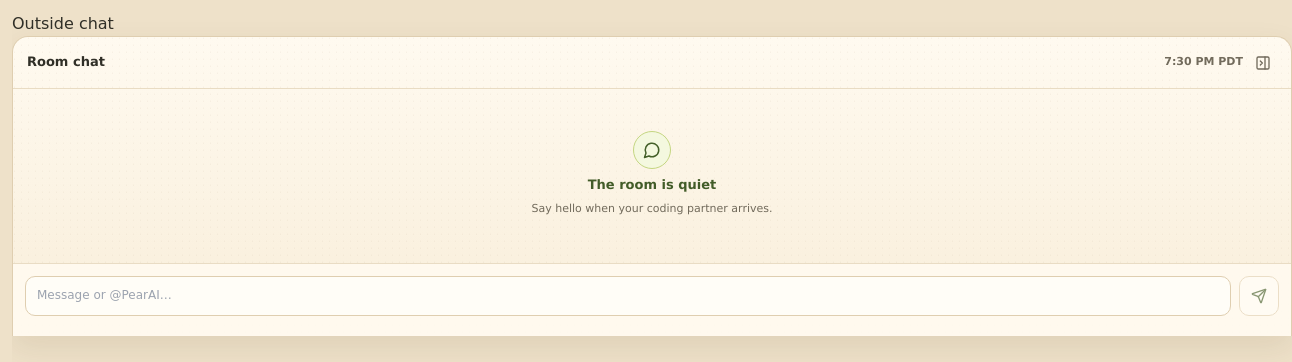
Test case: ChatPanel mention menu › accepts the active result with Tab
Type "@" into the dropdown named "Message room".
click(628, 296); type("@")  # box [25,276,1231,316]
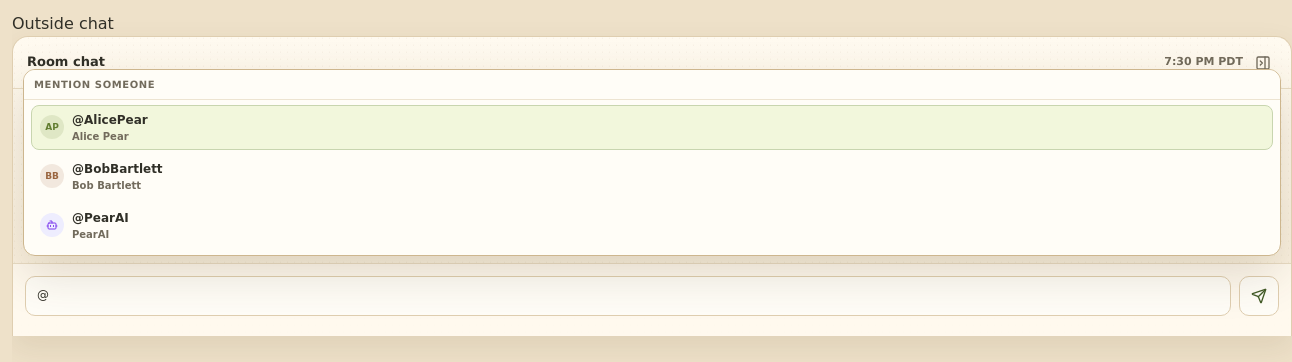
Press ArrowDown in the dropdown named "Message room", box [25,276,1231,316]
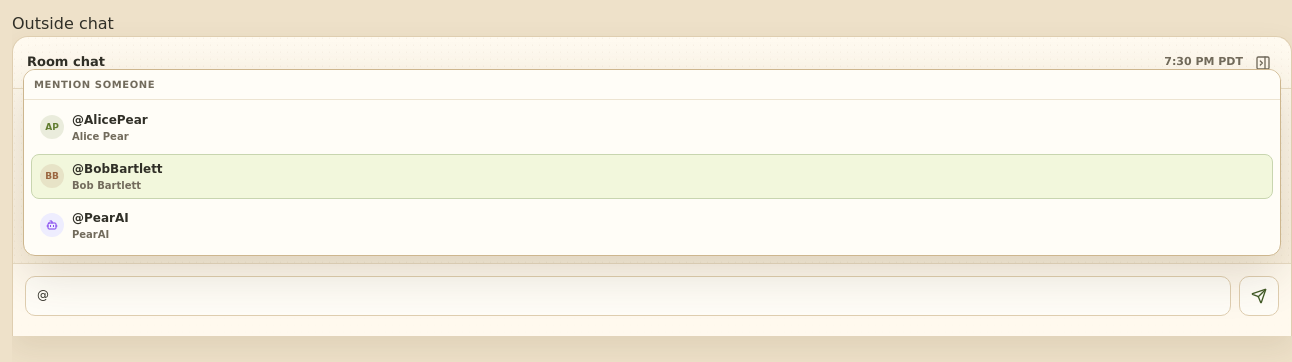
Press Tab in the dropdown named "Message room", box [25,276,1231,316]
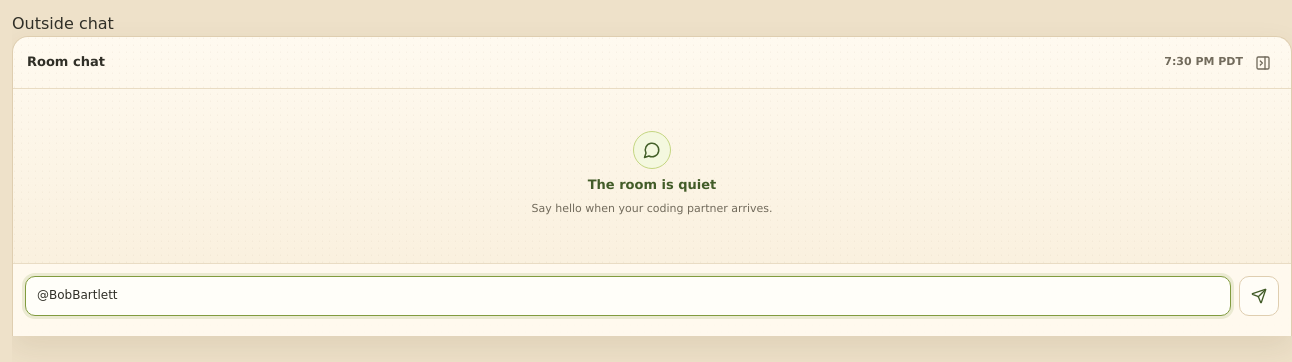
Result: the dropdown named "Message room" holds "@BobBartlett " at [25,276,1231,316]
Result: the list is gone
